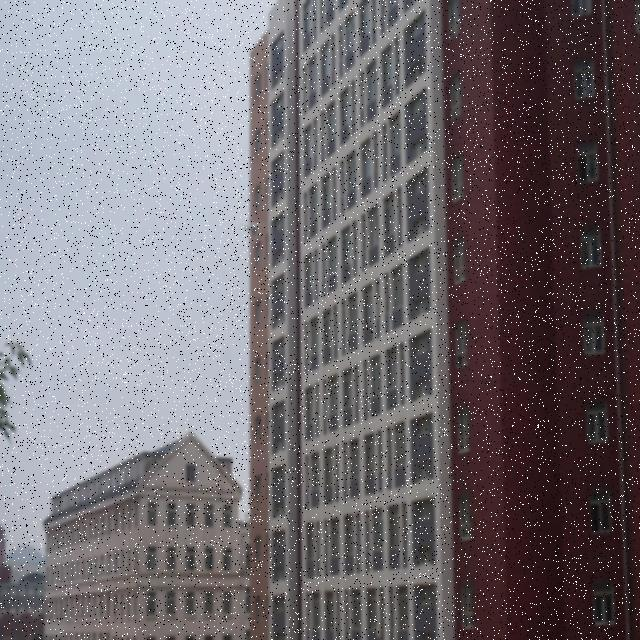UAV: (240, 222, 267, 239)
